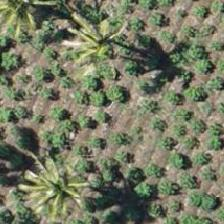coconut_tree: (51, 0, 141, 82), (7, 152, 97, 223), (0, 0, 57, 52)
